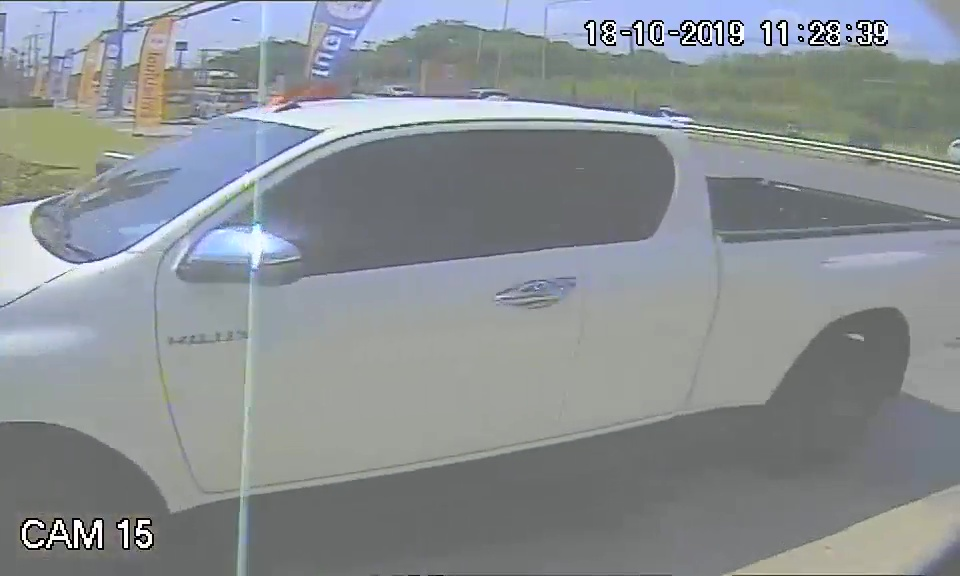pickup: (5, 93, 947, 509)
